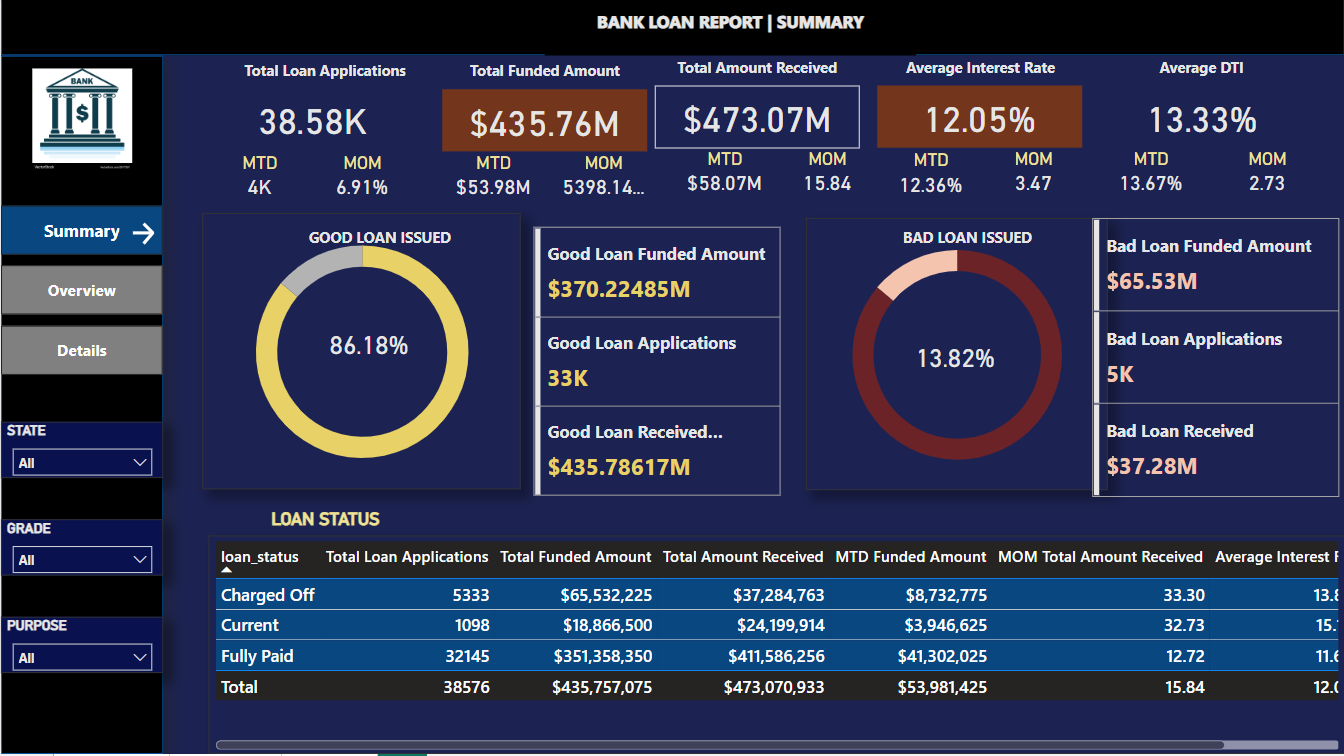

The dashboard page shown, as its layout file describes it:
{"tool":"powerbi","page":{"name":"Summary","canvas":[1280,720],"ordinal":0},"visuals":[{"type":"shape","box":[0,54.8,154.8,665.5],"z":0},{"type":"textbox","box":[396.4,0,489.3,54.8],"z":1000},{"type":"textbox","box":[615.5,51.2,209.5,32.1],"z":2000},{"type":"card","fields":{"Values":["Bank_loan_data.Total Funded Amount"]},"box":[420.2,86.9,195.2,59.5],"z":3000},{"type":"textbox","box":[191.7,54.8,198.8,28.6],"z":4000},{"type":"card","title":"MOM","fields":{"Values":["Bank_loan_data.MOM TOTAL AMOUNT RECEIVED"]},"box":[738.1,142.9,97.6,48.8],"z":5000},{"type":"card","fields":{"Values":["Bank_loan_data.Total Loan Applications"]},"box":[197.6,83.3,198.8,63.1],"z":6000},{"type":"card","title":"MTD","fields":{"Values":["Bank_loan_data.MTD LOAN APPLICATIONS"]},"box":[197.6,146.4,97.6,48.8],"z":7000},{"type":"card","title":"MOM","fields":{"Values":["Bank_loan_data.MOM LOAN APPLICATIONS"]},"box":[295.2,146.4,97.6,48.8],"z":8000},{"type":"textbox","box":[413.1,54.8,209.5,32.1],"z":9000},{"type":"card","title":"MTD","fields":{"Values":["Bank_loan_data.MTD FUNDED AMOUNT"]},"box":[420.2,146.4,97.6,48.8],"z":10000},{"type":"card","title":"MOM","fields":{"Values":["Bank_loan_data.MOM FUNDED AMOUNT"]},"box":[525,146.4,97.6,48.8],"z":11000},{"type":"card","fields":{"Values":["Bank_loan_data.Total Amount Received"]},"box":[622.6,83.3,195.2,59.5],"z":12000},{"type":"card","title":"MTD","fields":{"Values":["Bank_loan_data.MTD Amount Received"]},"box":[640.5,142.9,97.6,48.8],"z":13000},{"type":"textbox","box":[835.7,51.2,194,32.1],"z":14000},{"type":"card","fields":{"Values":["Bank_loan_data.Average Interest Rate"]},"box":[834.5,83.3,195.2,59.5],"z":15000},{"type":"card","title":"MTD","fields":{"Values":["Bank_loan_data.MTD Average Rate"]},"box":[836.9,144,97.6,48.8],"z":16000},{"type":"card","title":"MOM","fields":{"Values":["Bank_loan_data.MOM Average Interest Rate"]},"box":[934.5,142.9,97.6,48.8],"z":17000},{"type":"card","fields":{"Values":["Bank_loan_data.Average DTI"]},"box":[1046.4,83.3,195.2,59.5],"z":18000},{"type":"textbox","box":[1046.4,51.2,194,31],"z":19000},{"type":"card","title":"MTD","fields":{"Values":["Bank_loan_data.MTD Average DTI"]},"box":[1046.4,142.9,97.6,48.8],"z":20000},{"type":"card","title":"MOM","fields":{"Values":["Bank_loan_data.MOM Average TDI"]},"box":[1157.1,142.9,97.6,48.8],"z":21000},{"type":"card","fields":{"Values":["Bank_loan_data.Good Loan Percentage"]},"box":[281,301.2,139.3,58.3],"z":22000},{"type":"donutChart","fields":{"Category":["Bank_loan_data.loan_status (groups)"],"Y":["Bank_loan_data.Total Loan Applications"]},"box":[191.7,204.8,303.6,263.1],"z":23000},{"type":"textbox","box":[246.4,213.1,228.6,34.5],"z":24000},{"type":"cardVisual","fields":{"Data":["Bank_loan_data.Good Loan Application","Bank_loan_data.Good Loan Applications","Bank_loan_data.Good Loan Received Amount"]},"box":[502.4,213.1,245.2,267.9],"z":25000},{"type":"donutChart","fields":{"Category":["Bank_loan_data.loan_status (groups)"],"Y":["Bank_loan_data.Total Loan Applications"]},"box":[766.7,209.5,286.9,259.5],"z":26000},{"type":"card","fields":{"Values":["Bank_loan_data.Bad Loan Application %"]},"box":[854.8,316.7,108.3,51.2],"z":27000},{"type":"textbox","box":[834.5,213.1,176.2,34.5],"z":28000},{"type":"cardVisual","fields":{"Data":["Bank_loan_data.Bad Loan Funded Amount","Bank_loan_data.Bad Loan Applications","Bank_loan_data.Bad Loan Received"]},"box":[1034.5,204.8,245.2,276.2],"z":29000},{"type":"tableEx","fields":{"Values":["Bank_loan_data.loan_status","Bank_loan_data.Total Loan Applications","Bank_loan_data.Total Funded Amount","Bank_loan_data.Total Amount Received","Bank_loan_data.MTD FUNDED AMOUNT","Bank_loan_data.MOM TOTAL AMOUNT RECEIVED","Bank_loan_data.Average Interest Rate","Bank_loan_data.Average DTI"]},"box":[197.6,511.9,1082.1,208.3],"z":30000},{"type":"textbox","box":[197.6,481,222.6,31],"z":31000},{"type":"shape","box":[0,0,1279.8,54.8],"z":32000},{"type":"slicer","title":"STATE","fields":{"Values":["Bank_loan_data.address_state"]},"box":[0,403.6,154.8,53.6],"z":33000},{"type":"slicer","title":"GRADE","fields":{"Values":["Bank_loan_data.grade"]},"box":[0,496.4,154.8,53.6],"z":34000},{"type":"slicer","title":"PURPOSE","fields":{"Values":["Bank_loan_data.purpose"]},"box":[0,589.3,154.8,53.6],"z":35000},{"type":"textbox","box":[517.9,6,353.6,48.8],"z":36000},{"type":"image","box":[25,60.7,104.8,110.7],"z":36001},{"type":"pageNavigator","box":[0,197.6,154.8,161.9],"z":36002},{"type":"actionButton","box":[120.2,209.5,34.5,29.8],"z":36003}]}

Visuals, with their boxes on the page's 1280x720 design canvas (x1, y1, x2, y2). These are canvas units, not pixel positions in the 1344x756 screenshot, which may show the page scaled, cropped or inside an application window:
shape: 0/55/155/720
textbox: 396/0/886/55
textbox: 616/51/825/83
card - Bank_loan_data.Total Funded Amount: 420/87/615/146
textbox: 192/55/390/83
"MOM" card: 738/143/836/192
card - Bank_loan_data.Total Loan Applications: 198/83/396/146
"MTD" card: 198/146/295/195
"MOM" card: 295/146/393/195
textbox: 413/55/623/87
"MTD" card: 420/146/518/195
"MOM" card: 525/146/623/195
card - Bank_loan_data.Total Amount Received: 623/83/818/143
"MTD" card: 640/143/738/192
textbox: 836/51/1030/83
card - Bank_loan_data.Average Interest Rate: 834/83/1030/143
"MTD" card: 837/144/934/193
"MOM" card: 934/143/1032/192
card - Bank_loan_data.Average DTI: 1046/83/1242/143
textbox: 1046/51/1240/82
"MTD" card: 1046/143/1144/192
"MOM" card: 1157/143/1255/192
card - Bank_loan_data.Good Loan Percentage: 281/301/420/360
donutChart - Bank_loan_data.loan_status (groups) x Bank_loan_data.Total Loan Applications: 192/205/495/468
textbox: 246/213/475/248
cardVisual - Bank_loan_data.Good Loan Application x Bank_loan_data.Good Loan Applications: 502/213/748/481
donutChart - Bank_loan_data.loan_status (groups) x Bank_loan_data.Total Loan Applications: 767/210/1054/469
card - Bank_loan_data.Bad Loan Application %: 855/317/963/368
textbox: 834/213/1011/248
cardVisual - Bank_loan_data.Bad Loan Funded Amount x Bank_loan_data.Bad Loan Applications: 1034/205/1280/481
tableEx - Bank_loan_data.loan_status x Bank_loan_data.Total Loan Applications: 198/512/1280/720
textbox: 198/481/420/512
shape: 0/0/1280/55
"STATE" slicer: 0/404/155/457
"GRADE" slicer: 0/496/155/550
"PURPOSE" slicer: 0/589/155/643
textbox: 518/6/872/55
image: 25/61/130/171
pageNavigator: 0/198/155/360
actionButton: 120/210/155/239
